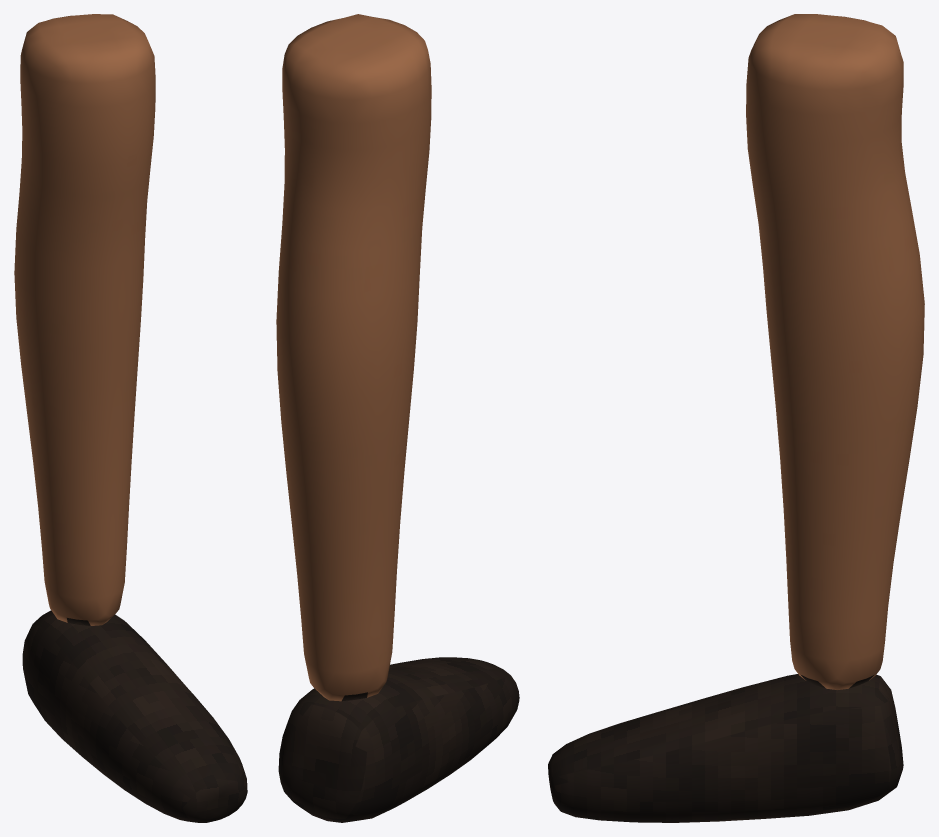
The model's file is piernaizq.obj.
3 renders of one model, left to right at view 1: azimuth 30°, elevation 25°; view 2: azimuth 150°, elevation 25°; view 3: azimuth 270°, elevation 25°, orthographic. The views are drawn at different scales.
Visible parts, largest first — view 1: PiernaIzq; view 2: PiernaIzq; view 3: PiernaIzq.
Part boxes in pixels (x1,y1,x2,y2): PiernaIzq: (14, 14, 247, 822); PiernaIzq: (276, 14, 519, 822); PiernaIzq: (548, 14, 924, 822).
Bounding box in the file's own units: 0.0608 × 0.3568 × 0.1573.
Materials: 2 (2 with a texture image).
